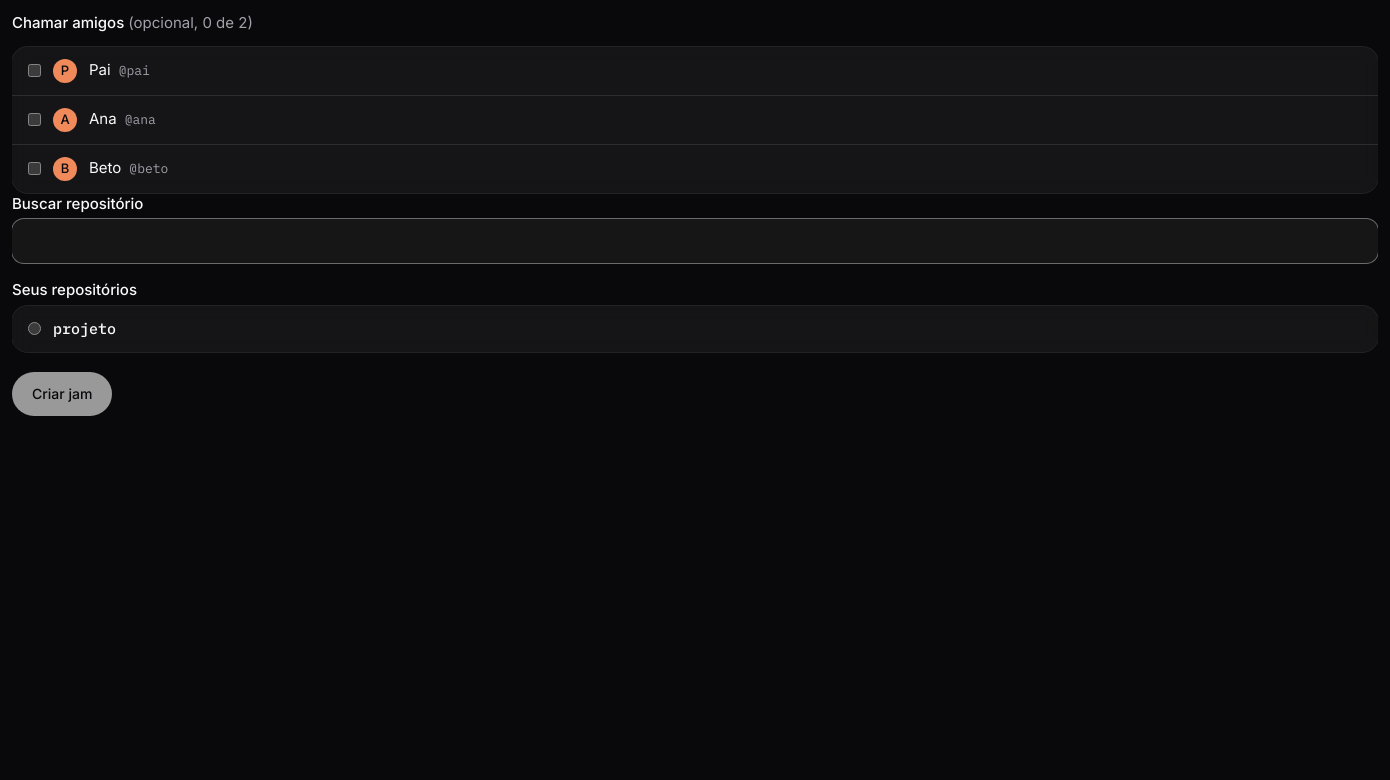
Test case: chamar amigos (Story 2.3) › quem não entrou aparece antes de sair da tela, com o motivo e o link do Início (gate da 2.3, UX-001)
The image size is (1390, 780).
Click the checkbox labelled "P Pai @pai".
click(34, 70)  # box [28,64,41,77]
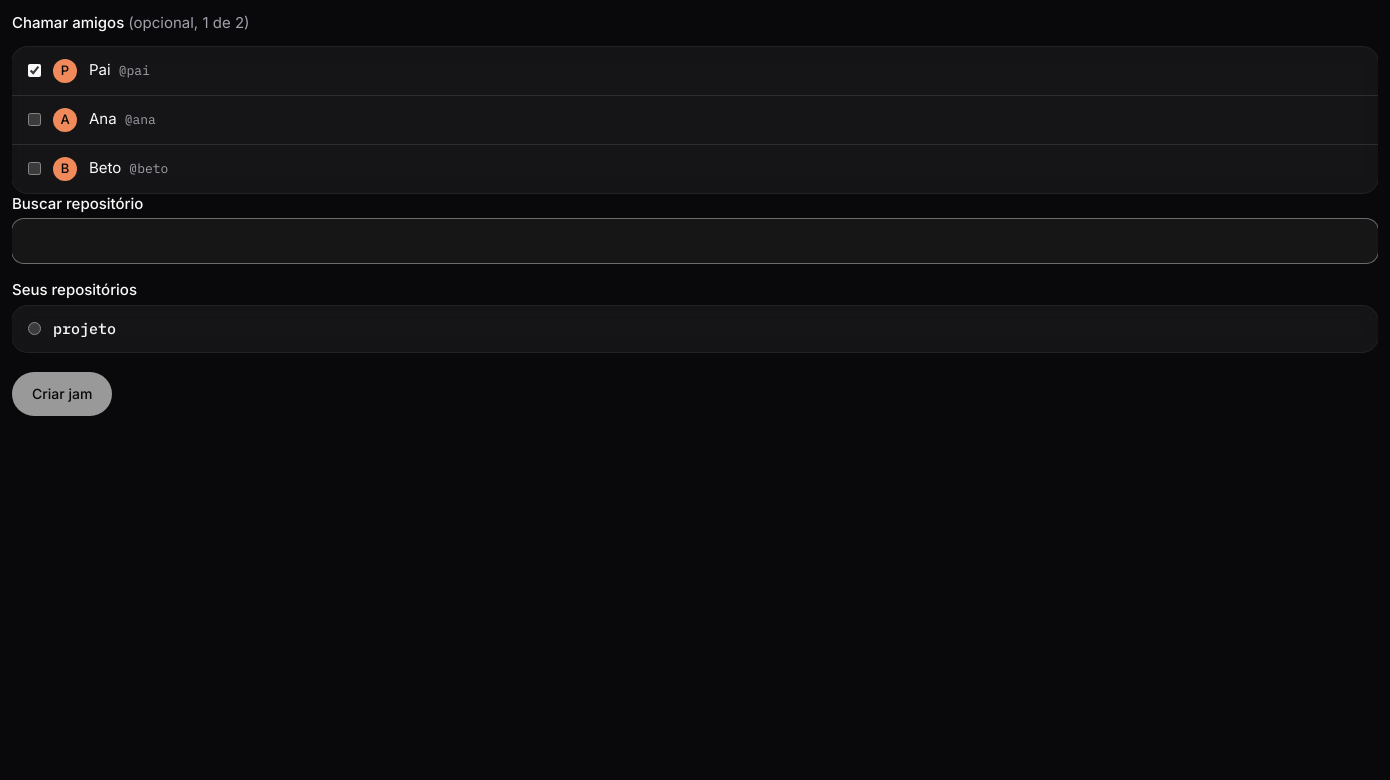
Click the checkbox labelled "A Ana @ana".
click(34, 120)  # box [28,113,41,126]
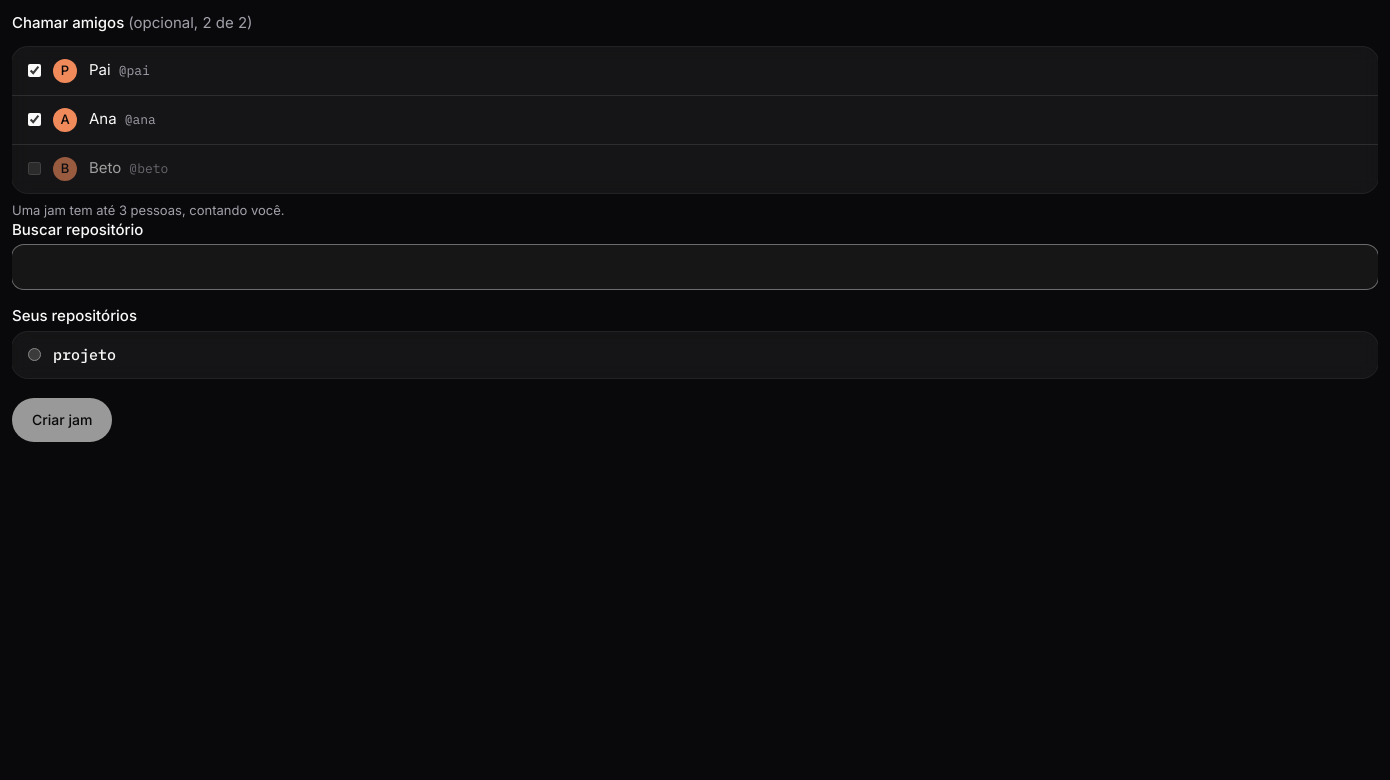
Click the radio button labelled "projeto".
click(34, 354)  # box [28,348,41,361]
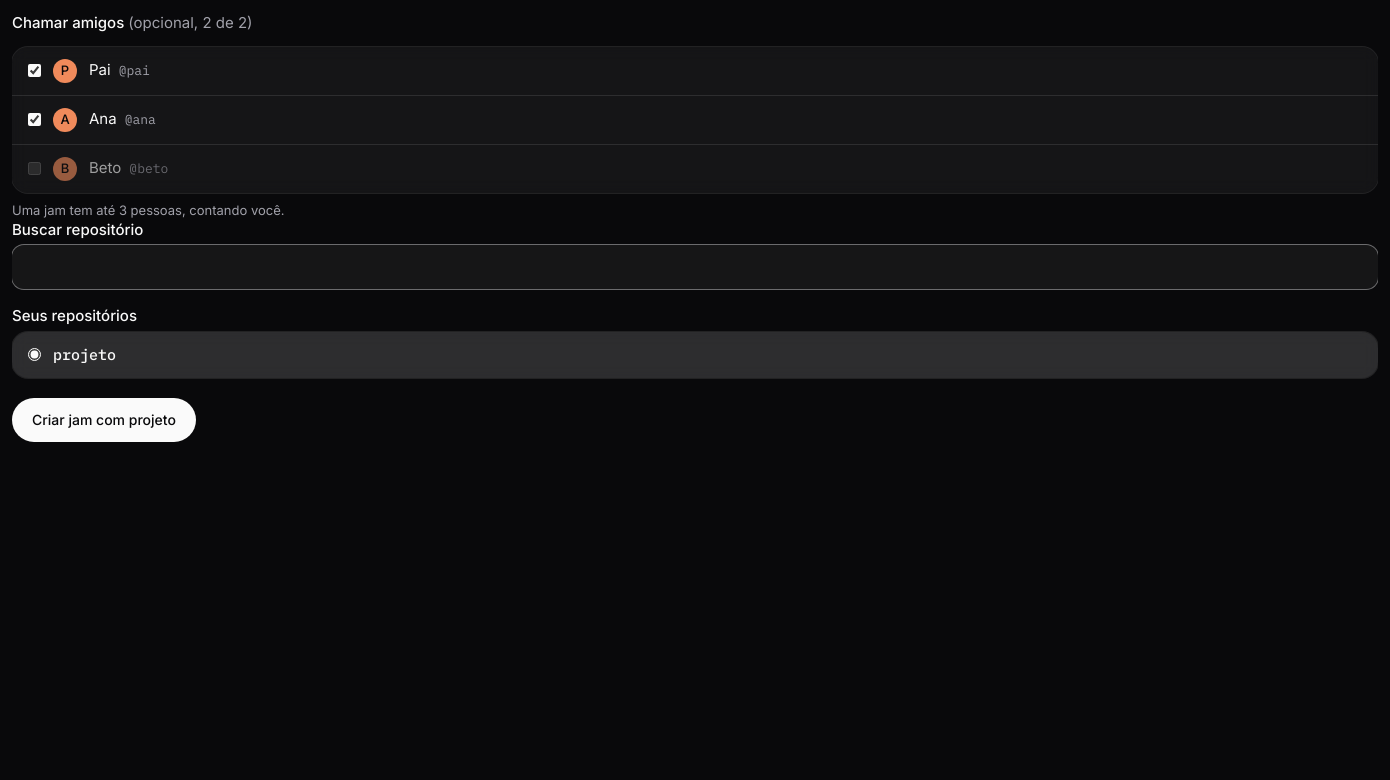
Click the button "Criar jam com projeto".
click(104, 420)  # box [12,398,196,442]
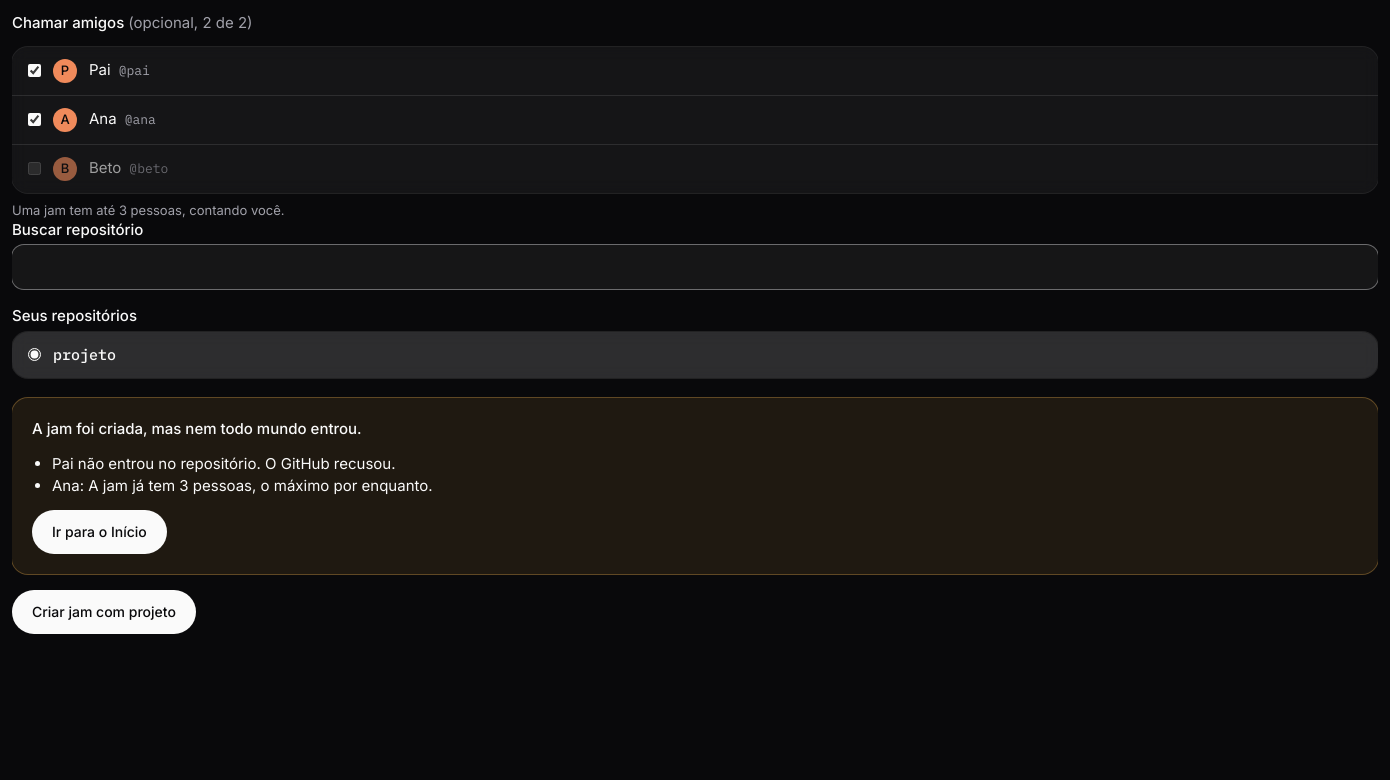
Expected: the message shows "A jam foi criada, mas nem todo mundo entrou.", [32,419,362,438]
Expected: the message shows "Pai não entrou no repositório. O GitHub recusou.", [52,454,396,473]
Expected: the message shows "Ana: A jam já tem 3 pessoas", [52,476,433,495]
